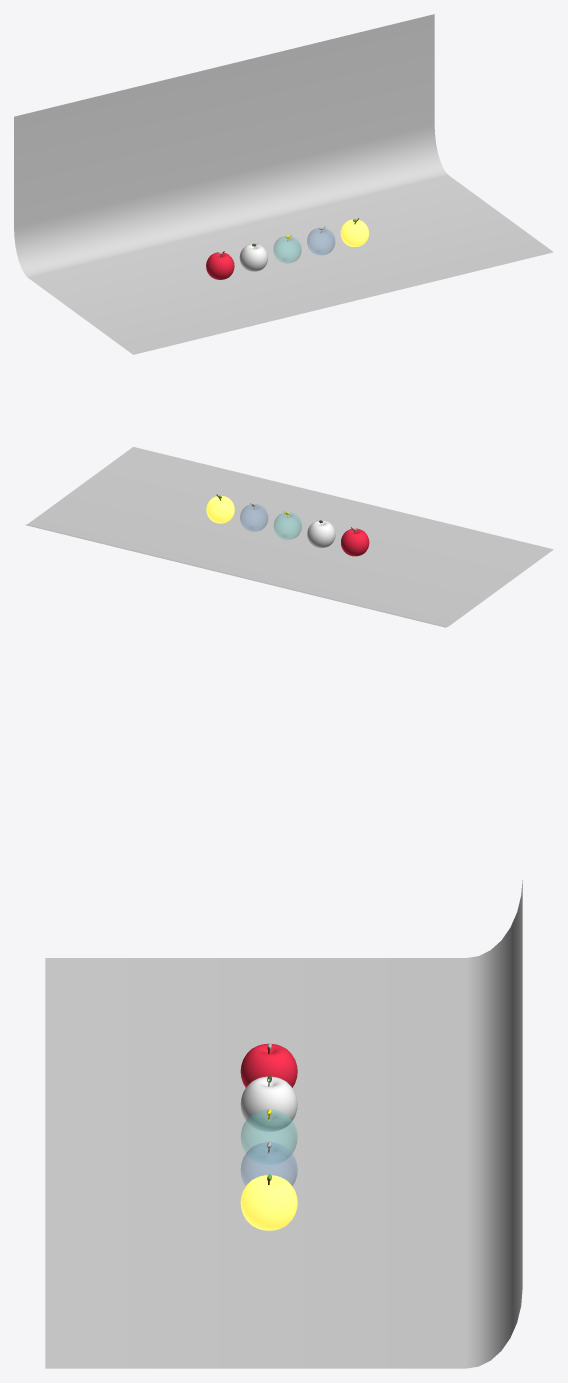
The model's file is りんご5種.glb.
3 views of the same model, one above another, from view 1: azimuth 30°, elevation 25°; view 2: azimuth 150°, elevation 25°; view 3: azimuth 270°, elevation 25° (orthographic). The views are drawn at different scales.
Visible parts, largest first — view 1: Plane, Sphere.002, Sphere, Sphere.008, Sphere.004, Sphere.006; view 2: Plane, Sphere.008, Sphere, Sphere.002, Sphere.004, Sphere.006; view 3: Plane, Sphere.008, Sphere.002, Sphere.004, Sphere, Sphere.006.
Part boxes in pixels (left/top/right/bottom): Plane: left=14, top=14, right=553, bottom=354; Sphere.002: left=239, top=244, right=268, bottom=271; Sphere: left=206, top=252, right=234, bottom=279; Sphere.008: left=340, top=219, right=368, bottom=246; Sphere.004: left=273, top=236, right=301, bottom=263; Sphere.006: left=307, top=228, right=334, bottom=254; Plane: left=25, top=447, right=553, bottom=627; Sphere.008: left=206, top=495, right=234, bottom=523; Sphere: left=341, top=528, right=369, bottom=556; Sphere.002: left=307, top=520, right=335, bottom=548; Sphere.004: left=274, top=512, right=301, bottom=539; Sphere.006: left=240, top=504, right=267, bottom=531; Plane: left=45, top=880, right=522, bottom=1368; Sphere.008: left=240, top=1175, right=297, bottom=1230; Sphere.002: left=240, top=1076, right=297, bottom=1132; Sphere.004: left=241, top=1109, right=297, bottom=1164; Sphere: left=240, top=1043, right=297, bottom=1087; Sphere.006: left=241, top=1142, right=297, bottom=1185.
Size of the model in its own units: 5.14 by 1.76 by 2.53.
